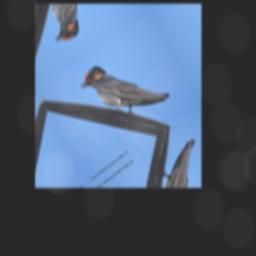Swallow: (76, 33, 171, 142)
